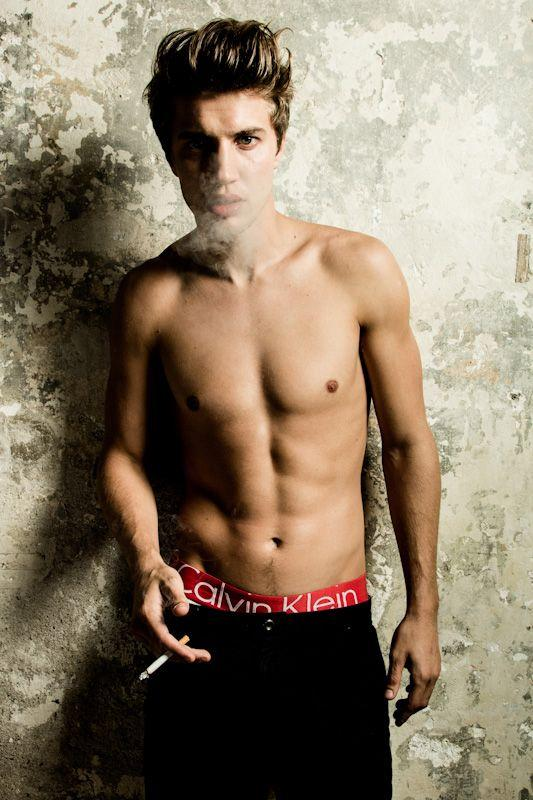cigarette: (139, 634, 190, 680)
